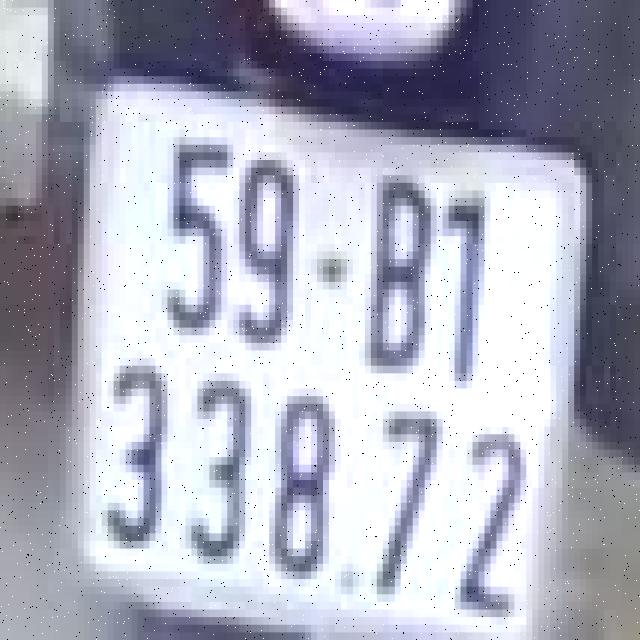1: (440, 187, 488, 392)
2: (461, 427, 526, 617)
3: (186, 370, 252, 568), (104, 351, 164, 548)
5: (168, 133, 228, 339)
7: (374, 400, 439, 598)
8: (269, 377, 329, 583)
9: (233, 149, 299, 354)
B: (368, 168, 433, 381)
